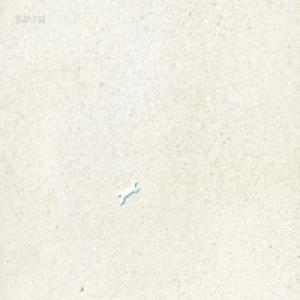Wrench: (117, 180, 139, 206)
